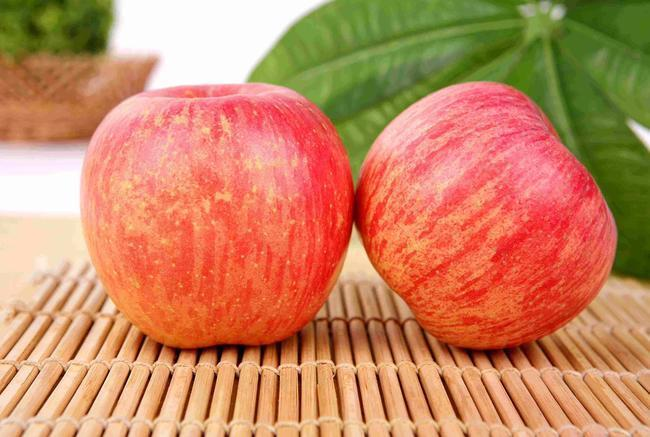apple: (76, 83, 356, 353), (356, 79, 618, 351)
